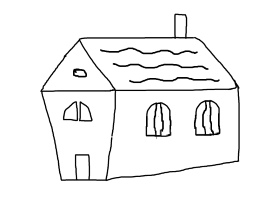chimney: (174, 13, 187, 38)
closed_window: (193, 99, 221, 136), (144, 101, 172, 136)
door: (70, 149, 95, 183)
open_window: (63, 101, 78, 121), (79, 101, 93, 121)
roof: (35, 34, 238, 96)
wall: (103, 86, 239, 181)
